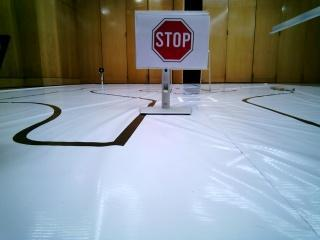stop: (138, 10, 204, 67)
